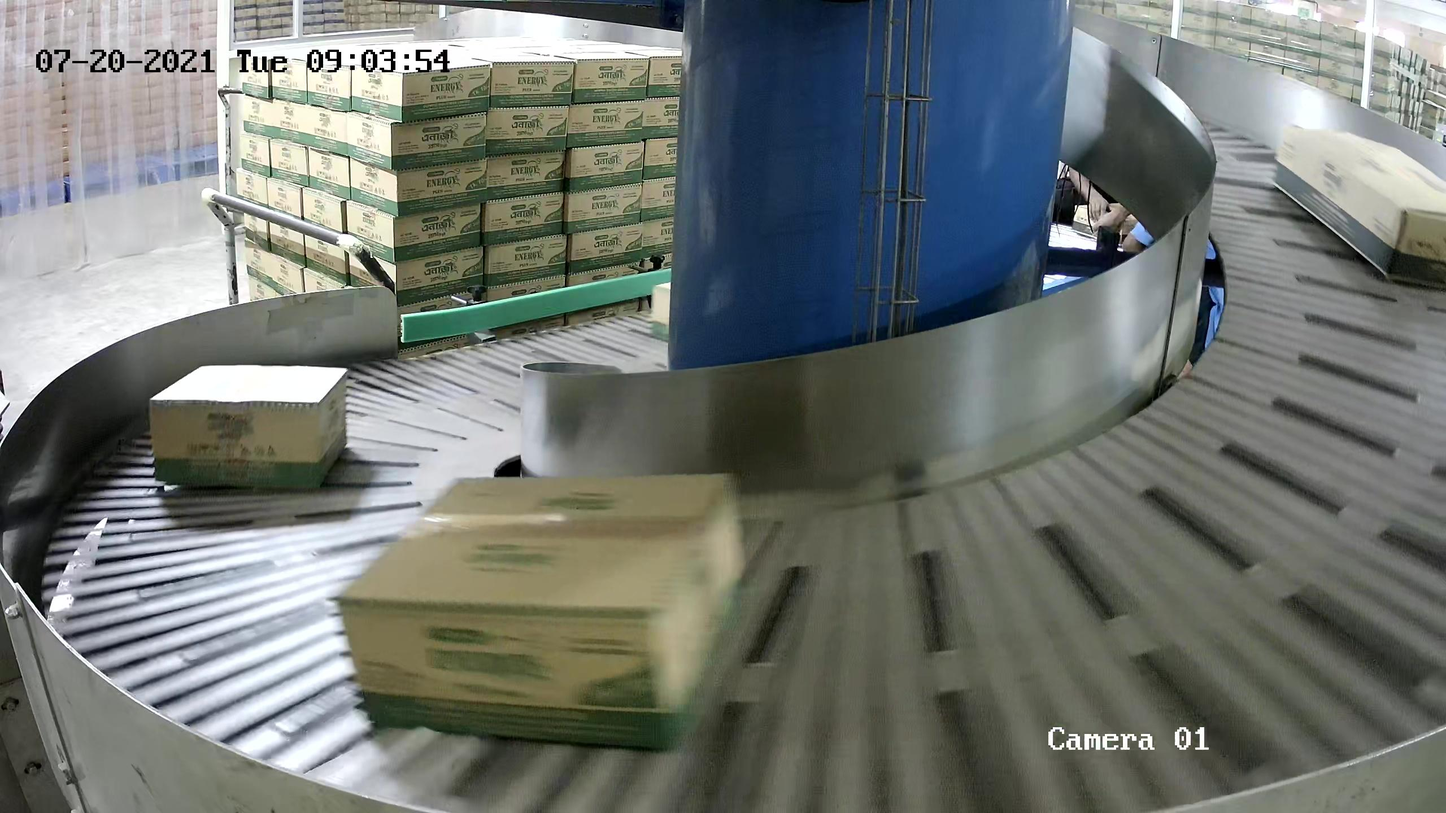Box: (335, 470, 751, 753), (1269, 123, 1446, 290), (149, 363, 349, 490), (651, 281, 671, 342)
